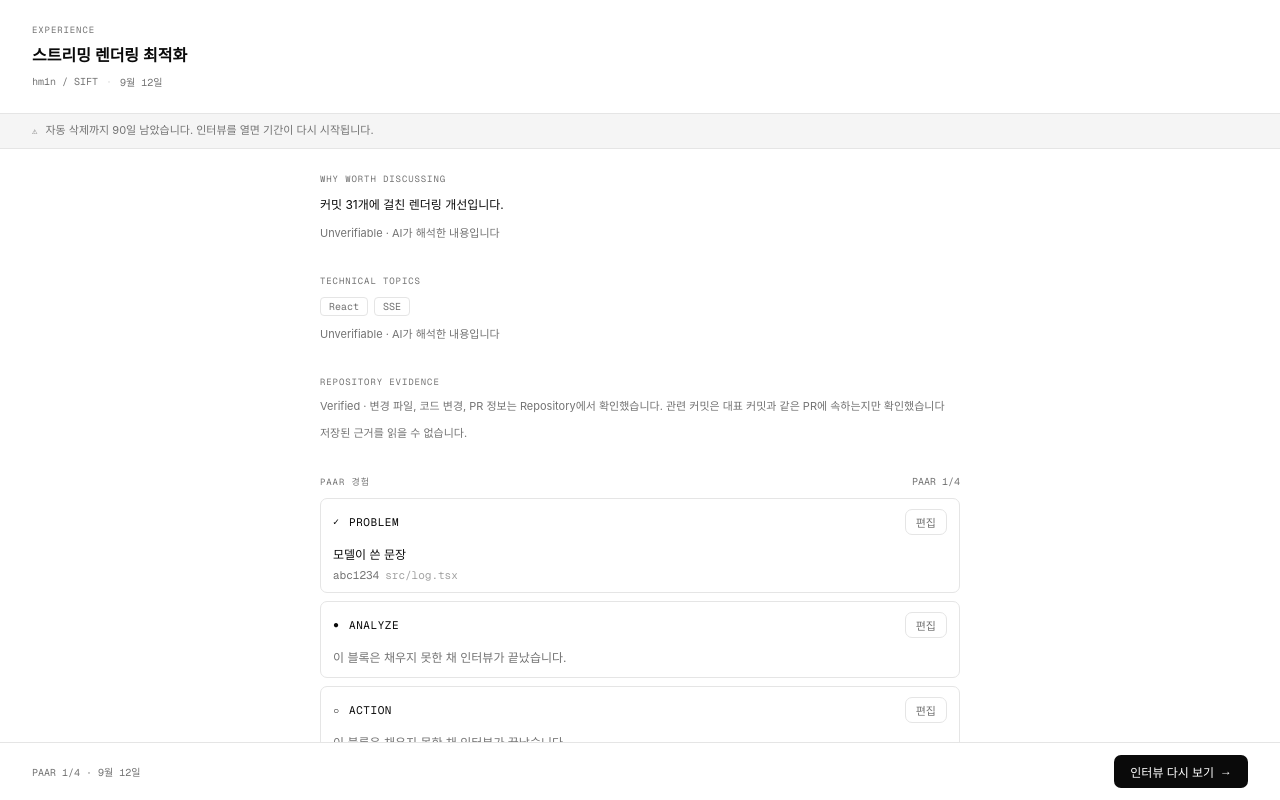
Test case: SavedInterviewScreen 블록 편집 › 저장이 실패하면 고친 문장을 반영하지 않고 알린다
The width and height of the screenshot is (1280, 800).
Click the button with aria-label "Problem 편집" at (926, 522), box [905,509,947,535]
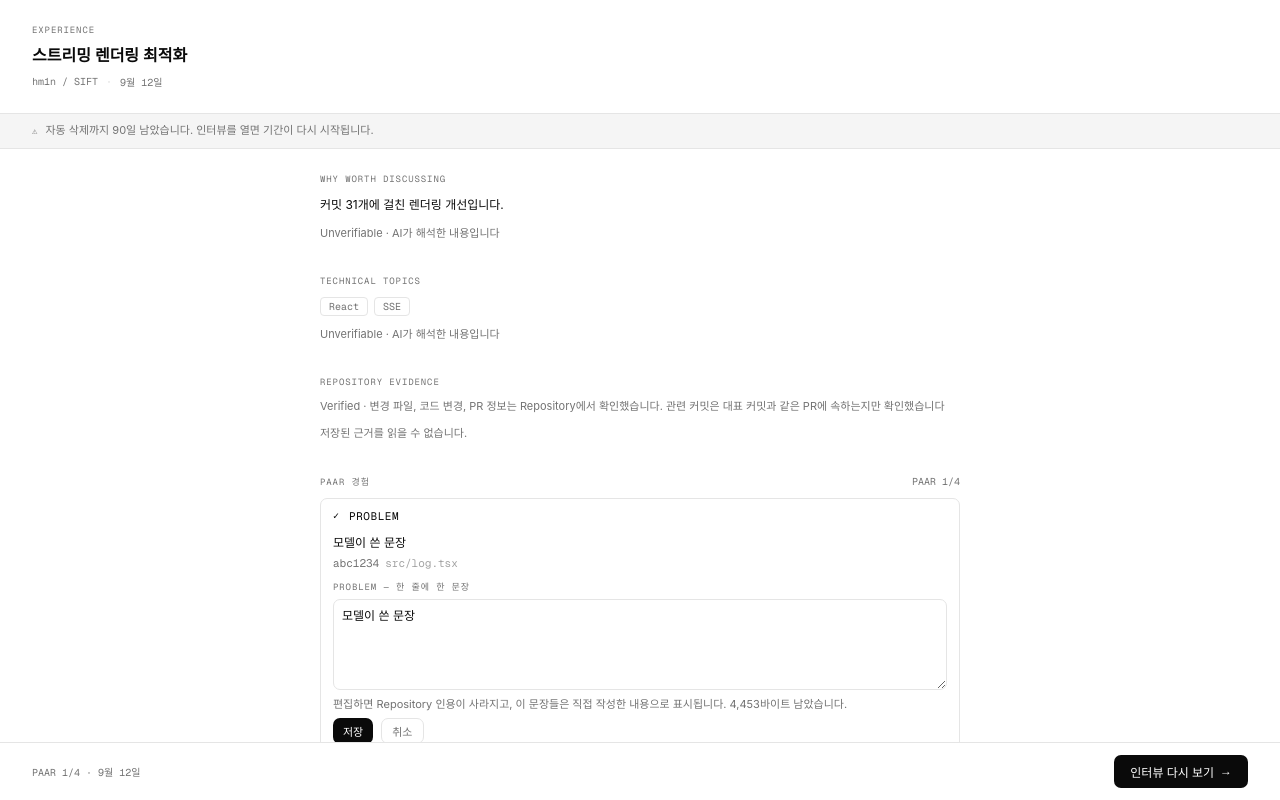
Replace the text in the text box with "저장되지 않을 문장" at (640, 644), box [333,599,947,690]
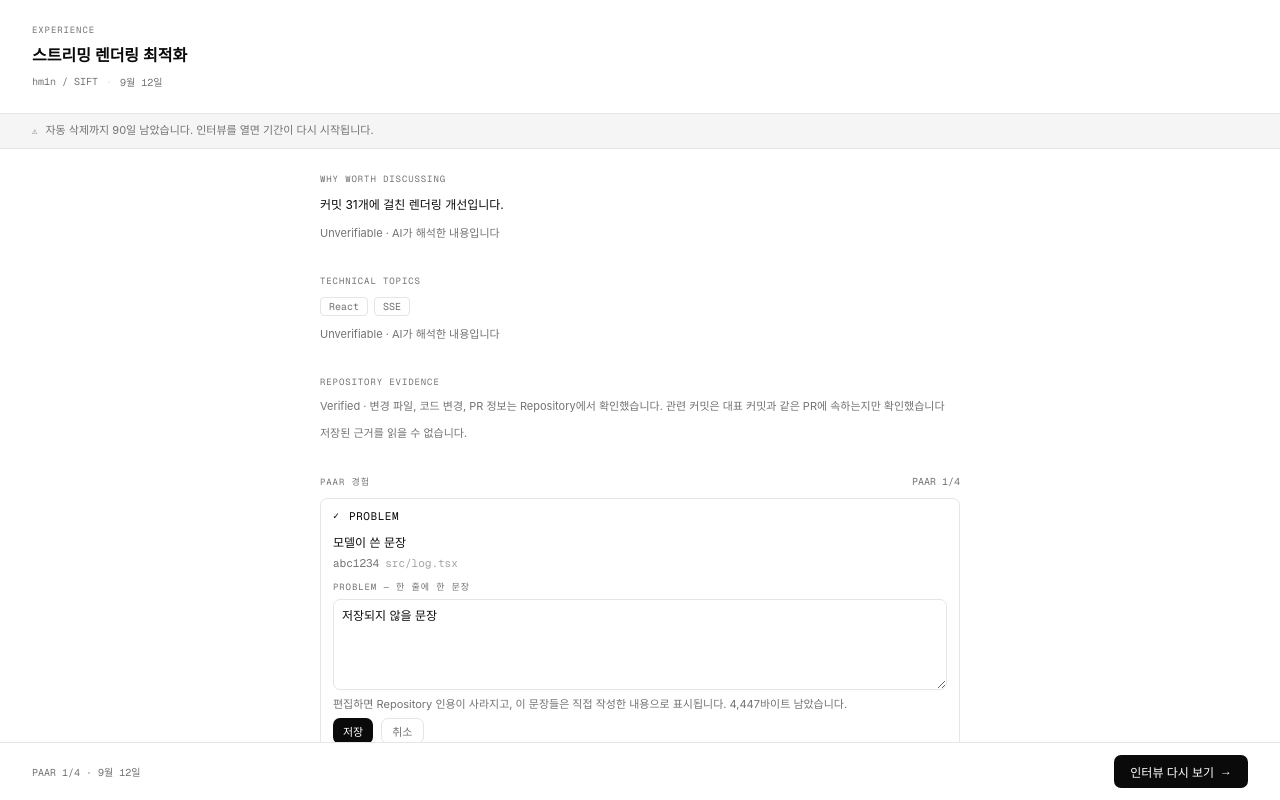
Click the button "저장" at (353, 731), box [333,718,373,744]
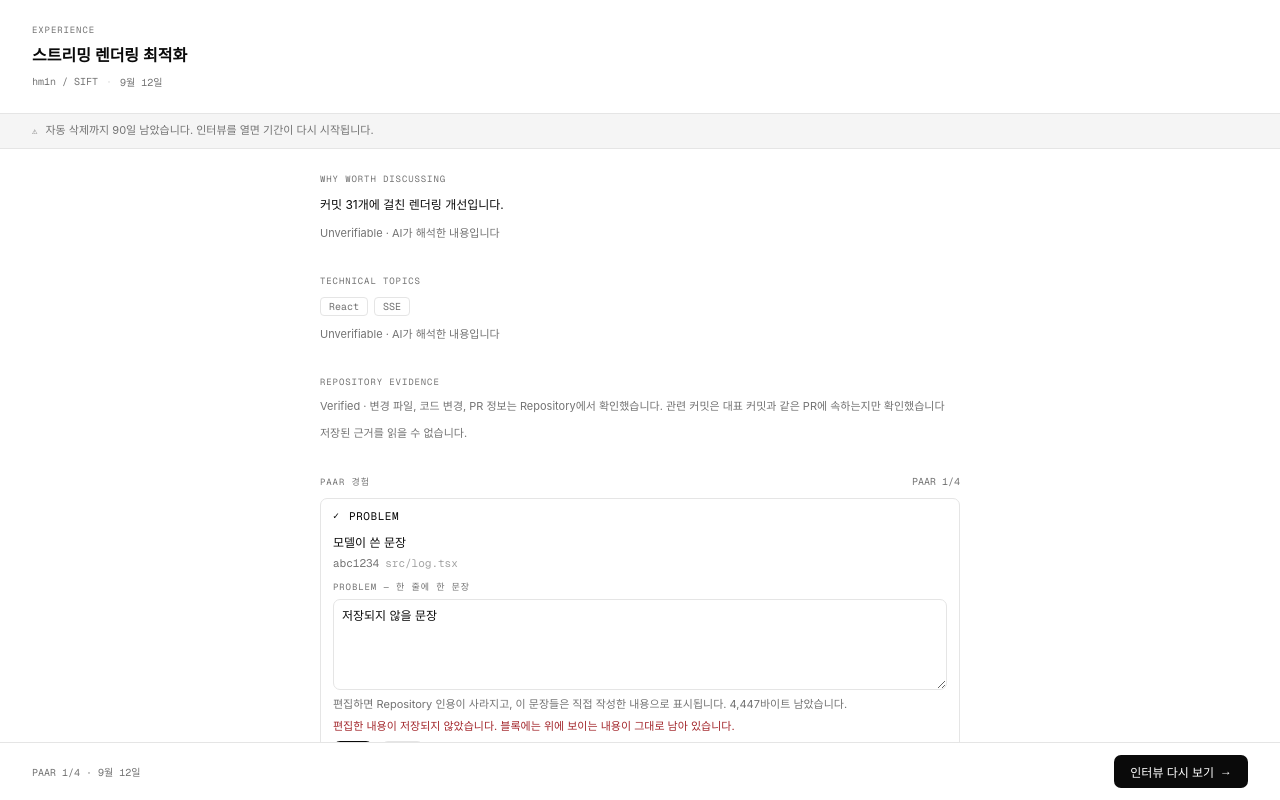
Expected: the text "모델이 쓴 문장" is shown, [333,535,406,550]
Result: the text "편집한 내용이 저장되지 않았습니다. 블록에는 위에 보이는 내용이 그대로 남아 있습니다." is shown at [333,719,735,733]
